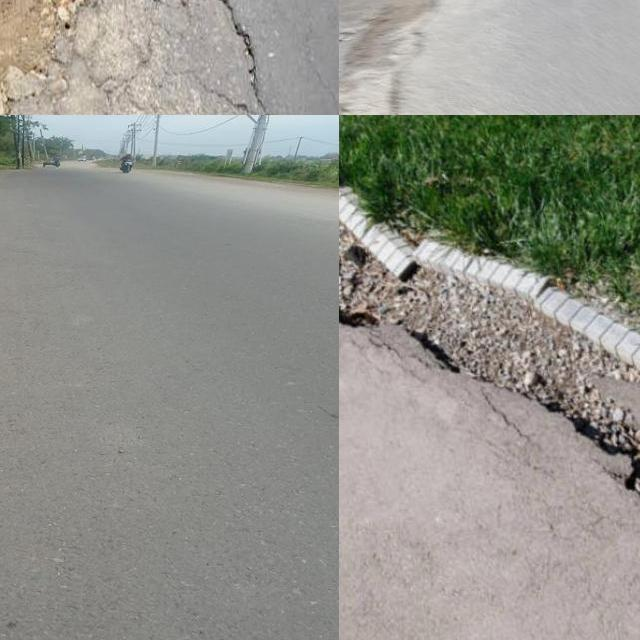Pinggir: (339, 192, 640, 505), (0, 0, 224, 115), (339, 0, 463, 115)
